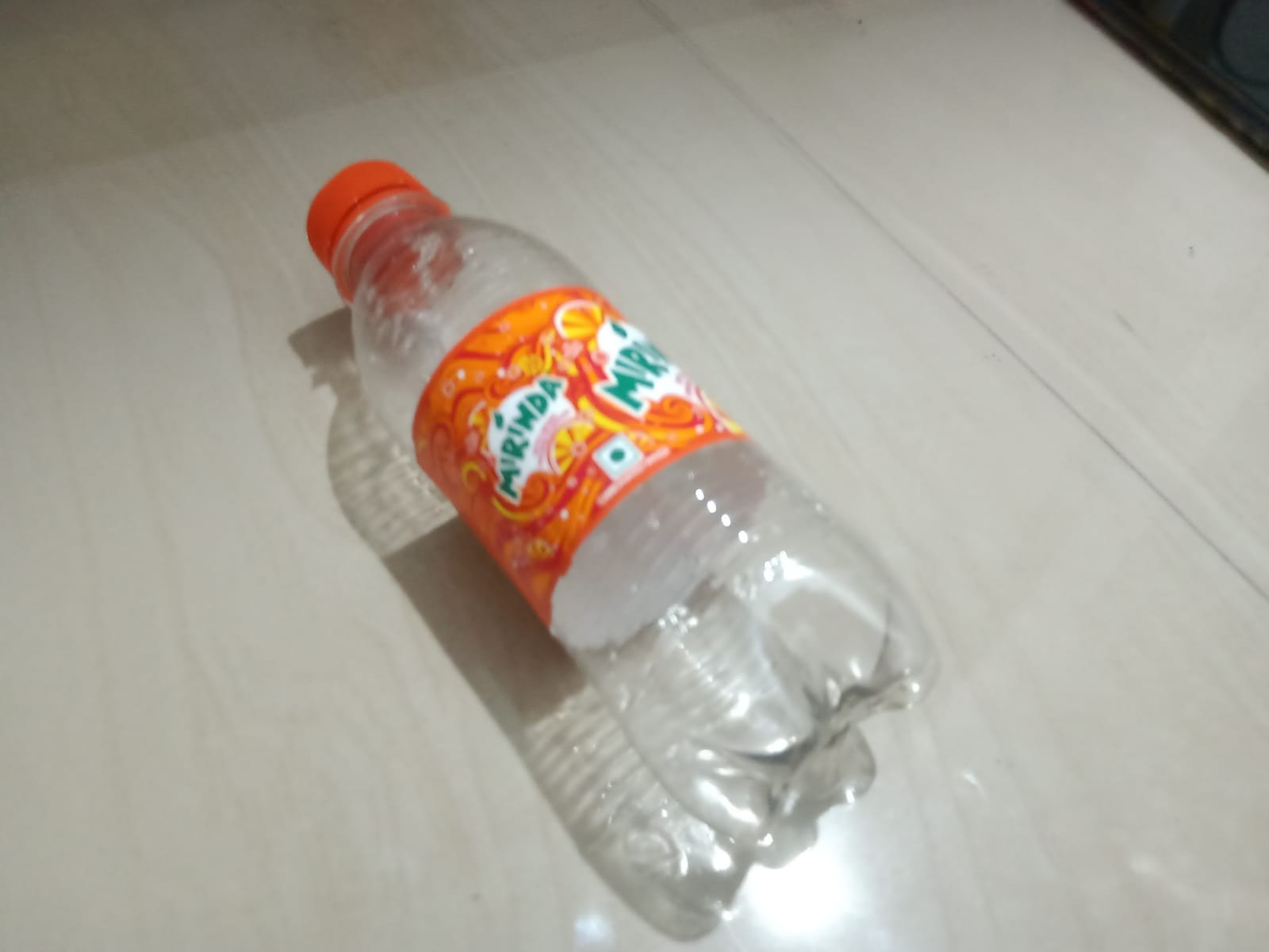plastic: (248, 125, 961, 808)
